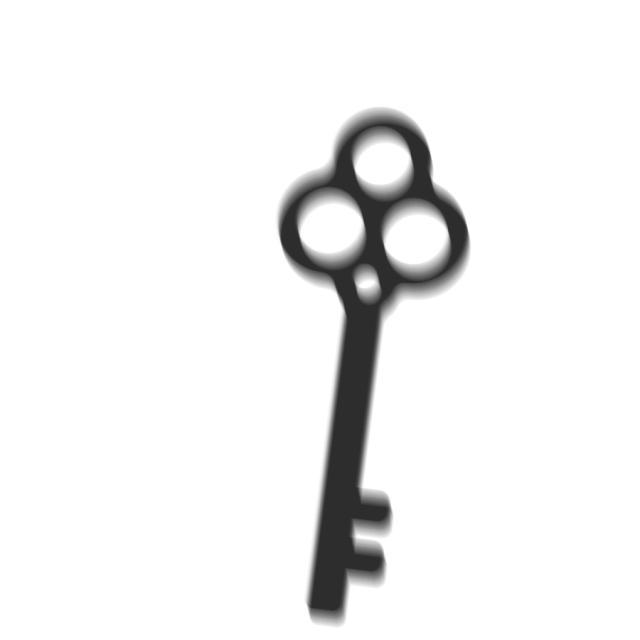key: (273, 102, 481, 635)
